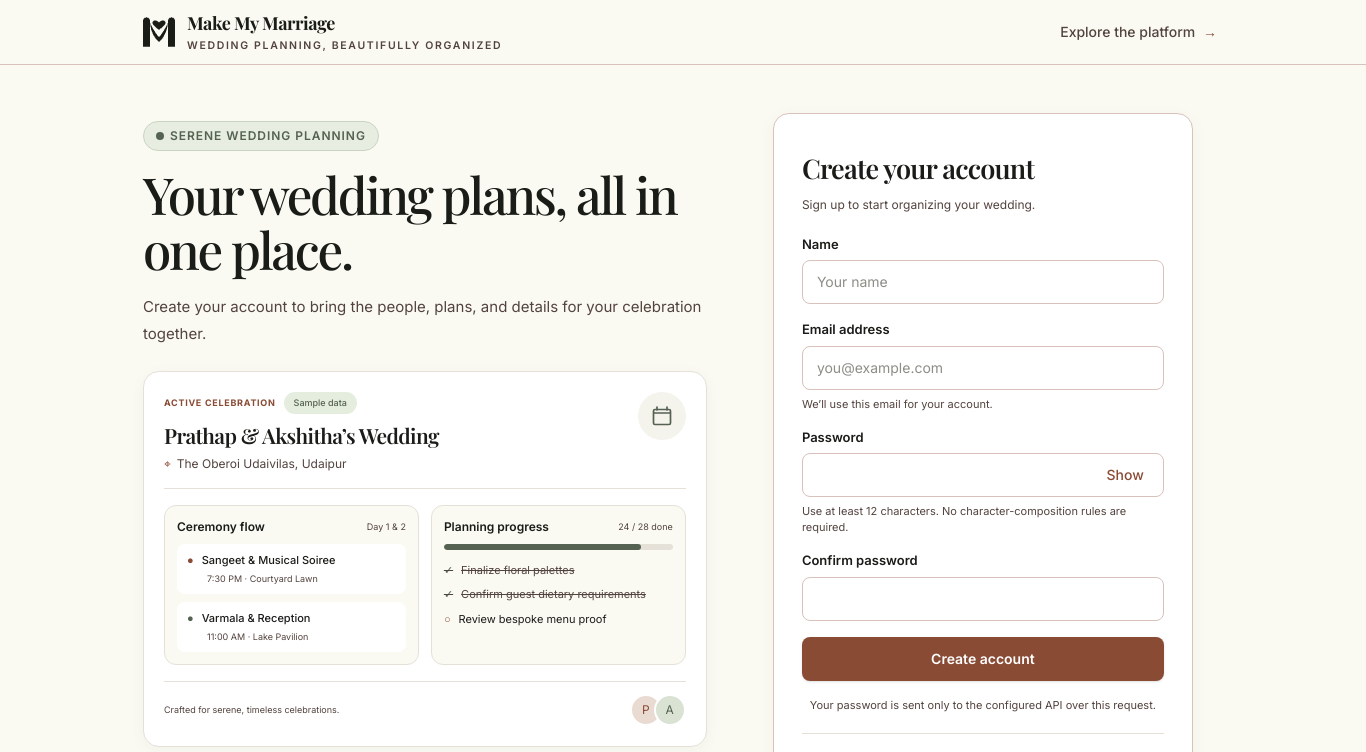
Test: SignupPage › shows a duplicate-email response from the backend
Type "Aisha Rao" into the field labelled "Name". click: (983, 282)
box: x1=802 y1=260 x2=1164 y2=304
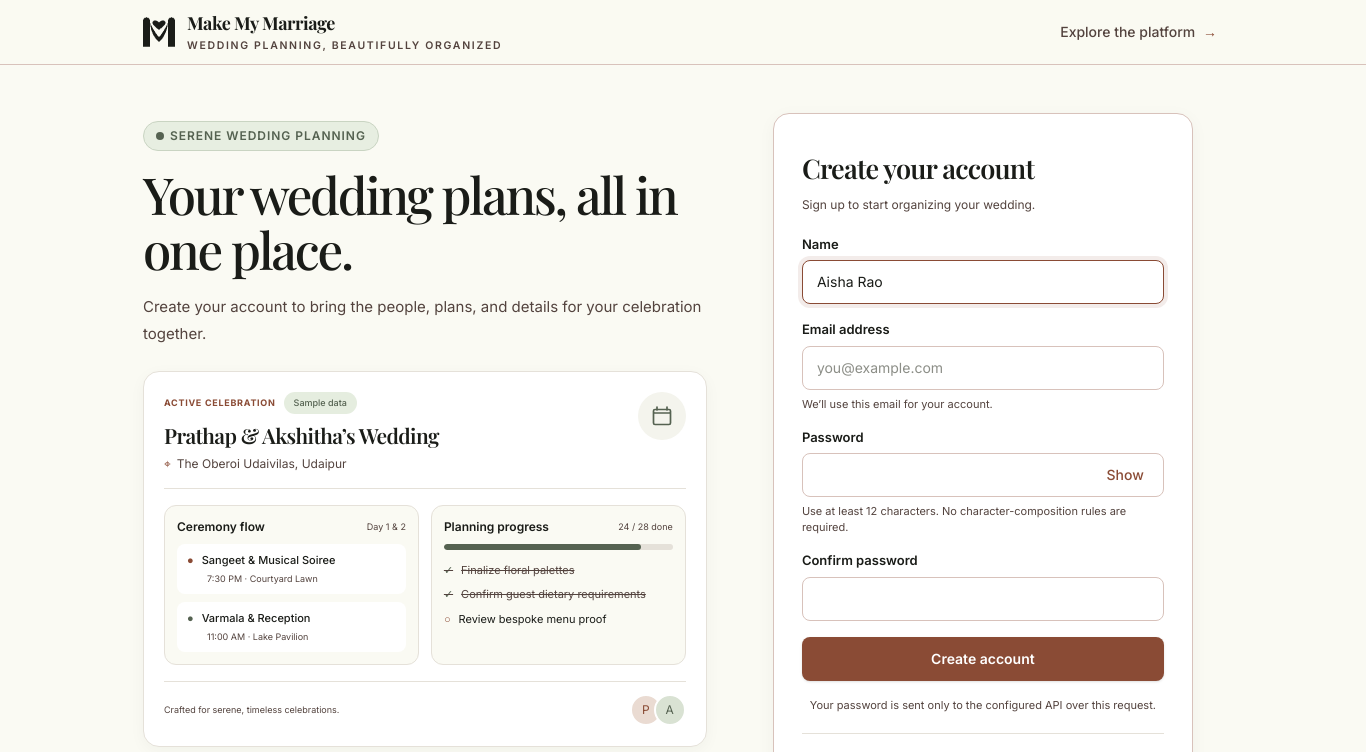
Type "existing@example.com" into the field labelled "Email address". click: (983, 368)
box: x1=802 y1=346 x2=1164 y2=390
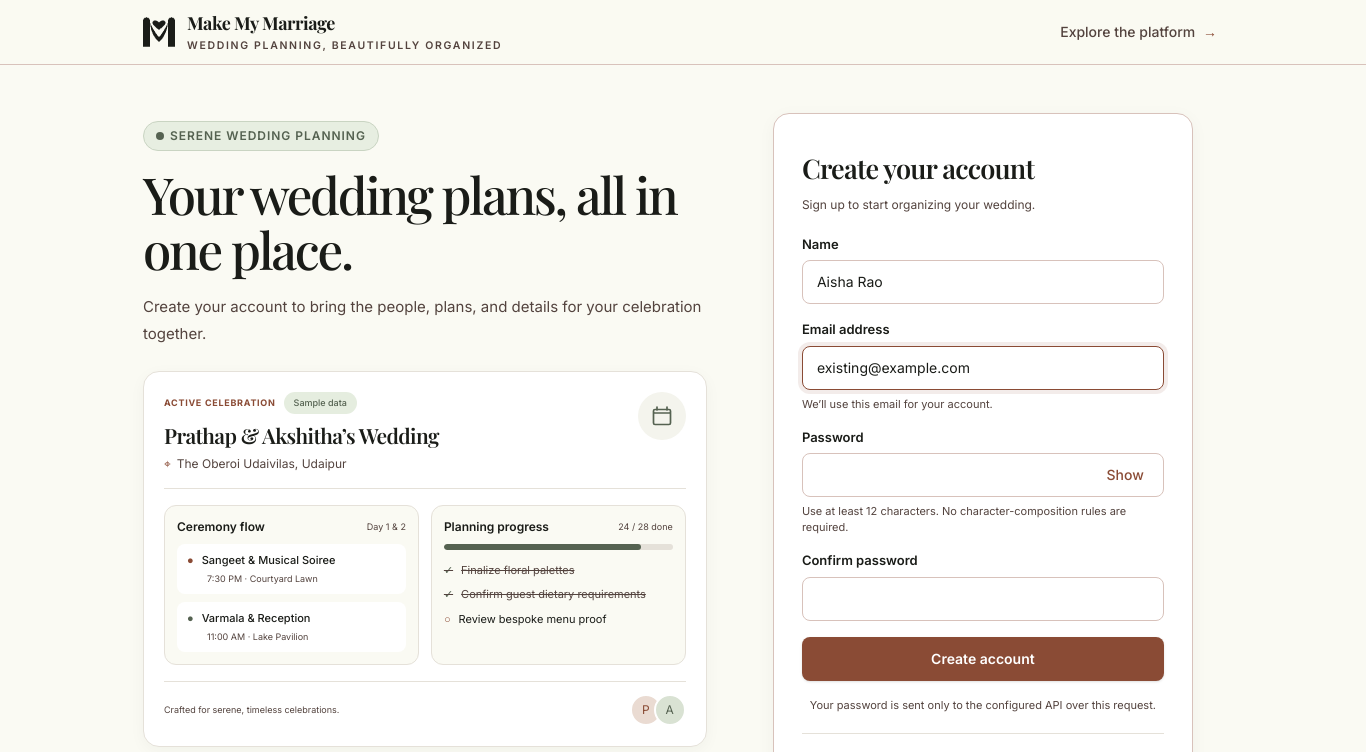
Type "example-password" into the password field labelled "Password". click: (983, 475)
box: x1=802 y1=453 x2=1164 y2=497
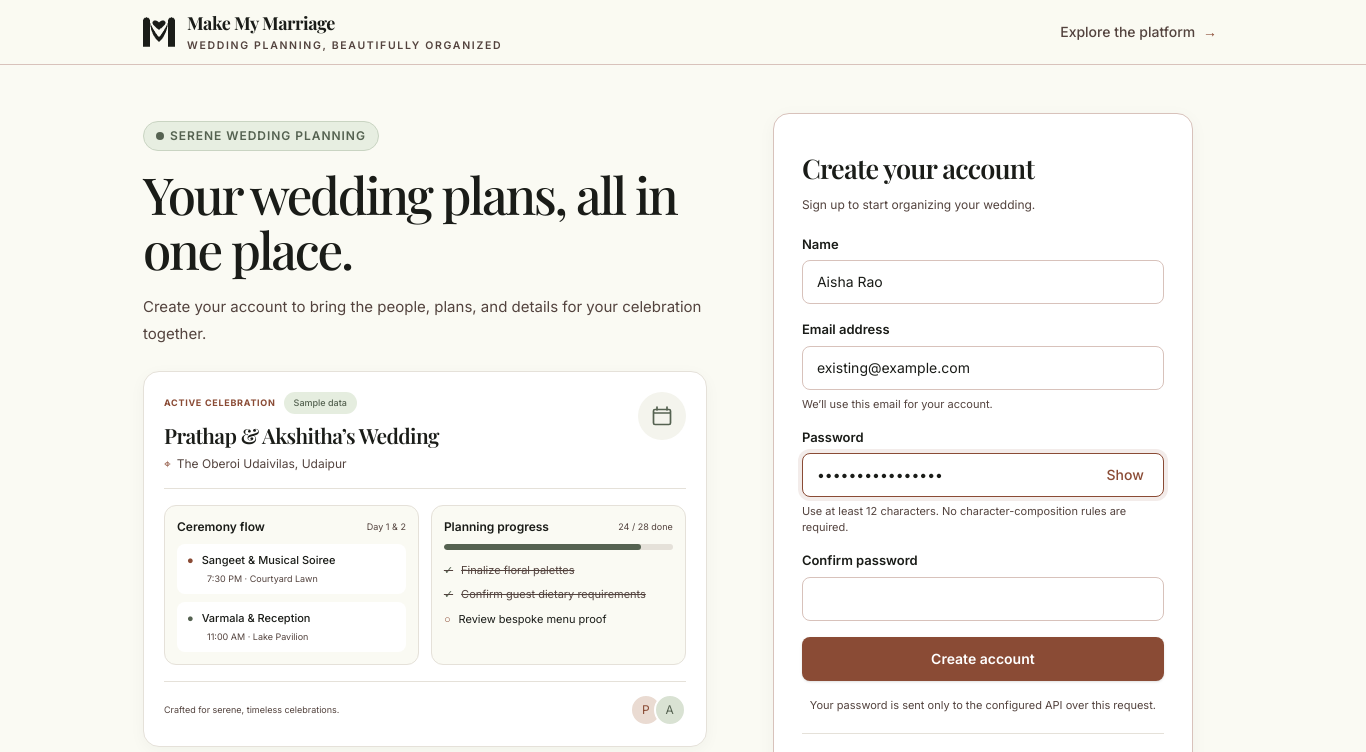
Type "example-password" into the password field labelled "Confirm password". click: (983, 598)
box: x1=802 y1=576 x2=1164 y2=620
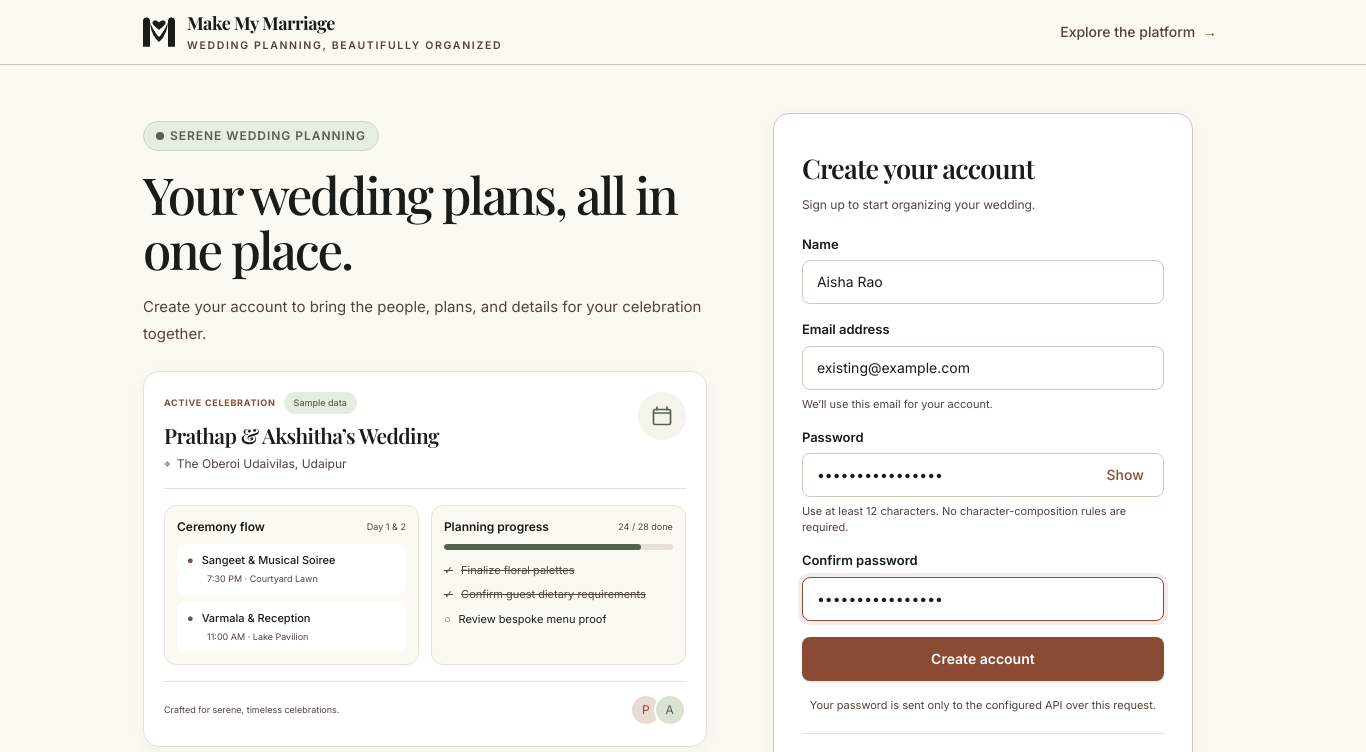
Click the button "Create account". click: click(983, 658)
box: x1=802 y1=636 x2=1164 y2=680
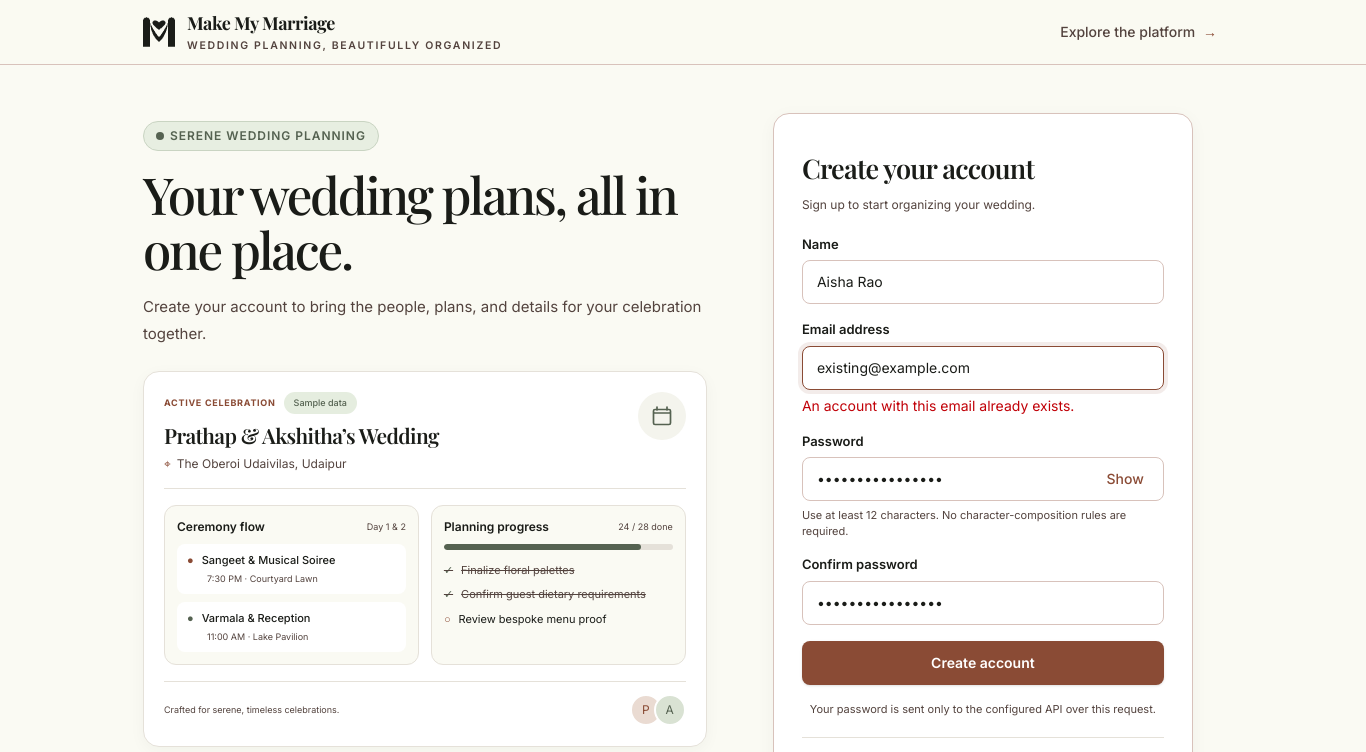
Expected: the text "An account with this email already exists." is shown, x1=802 y1=396 x2=1074 y2=414
